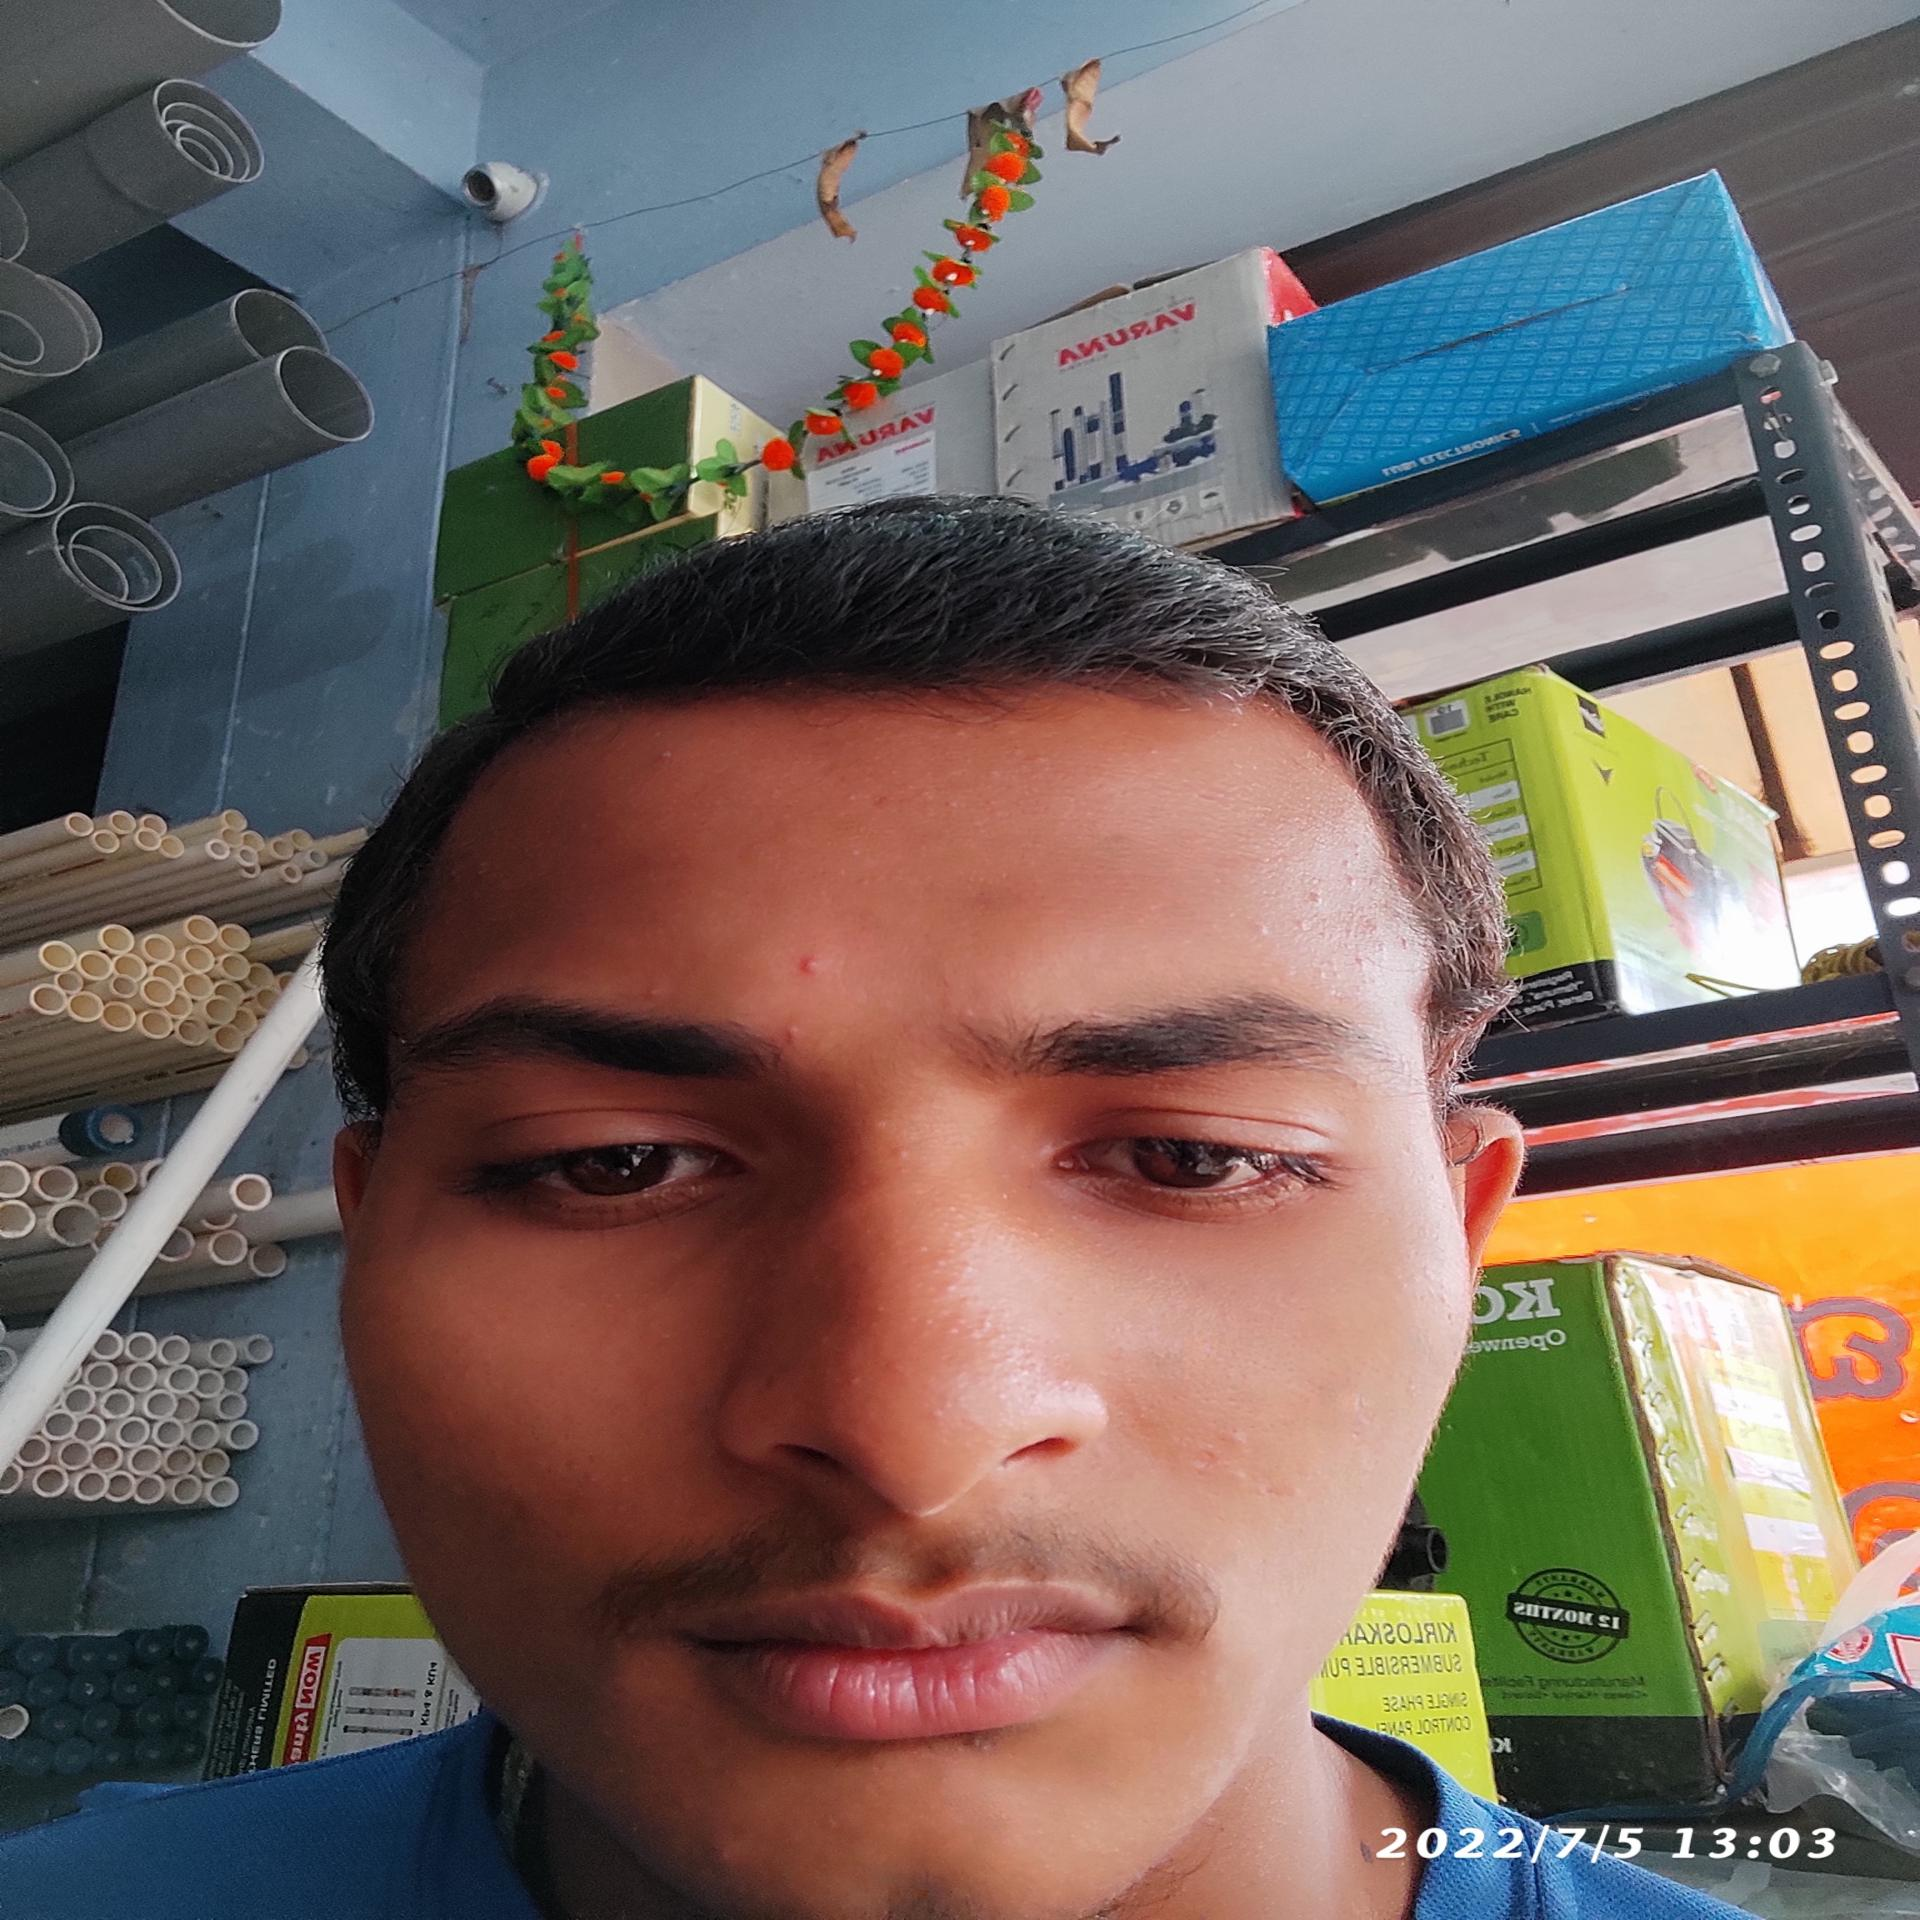Acne: (1190, 1426, 1255, 1468), (867, 1115, 913, 1162), (709, 1832, 751, 1869), (1296, 884, 1324, 935), (784, 951, 832, 979), (1329, 851, 1363, 888), (626, 979, 666, 1007), (471, 853, 499, 881), (781, 1020, 805, 1048), (651, 744, 680, 767), (1248, 920, 1278, 941)
